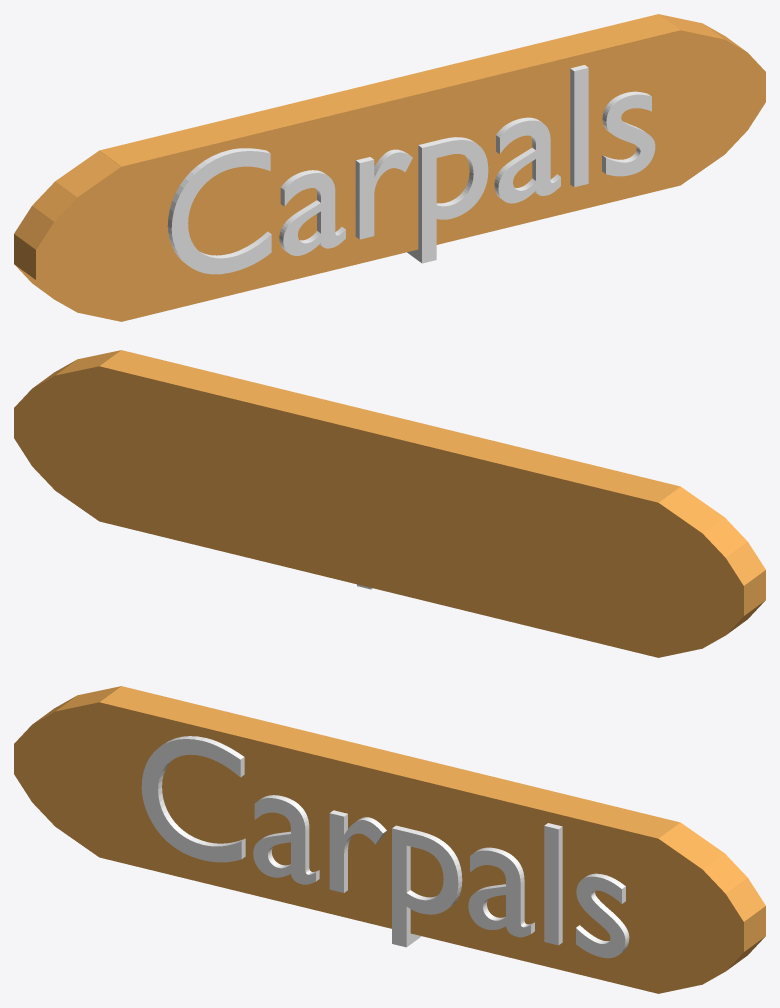
File: txtCarpals.fbx
The picture shows the model from 3 angles, top to bottom: view 1: azimuth 30°, elevation 25°; view 2: azimuth 150°, elevation 25°; view 3: azimuth 330°, elevation 25°; orthographic projection.
Parts seen in each view (by area): view 1: TagContainer.011, Text.011; view 2: TagContainer.011; view 3: TagContainer.011, Text.011.
Part boxes in pixels (bbox=[...]): TagContainer.011: bbox=[14, 14, 765, 321]; Text.011: bbox=[167, 65, 655, 274]; TagContainer.011: bbox=[14, 350, 765, 657]; TagContainer.011: bbox=[14, 686, 765, 993]; Text.011: bbox=[141, 736, 629, 958].
Bounding box in the file's own units: 203 × 44.26 × 12.58.
